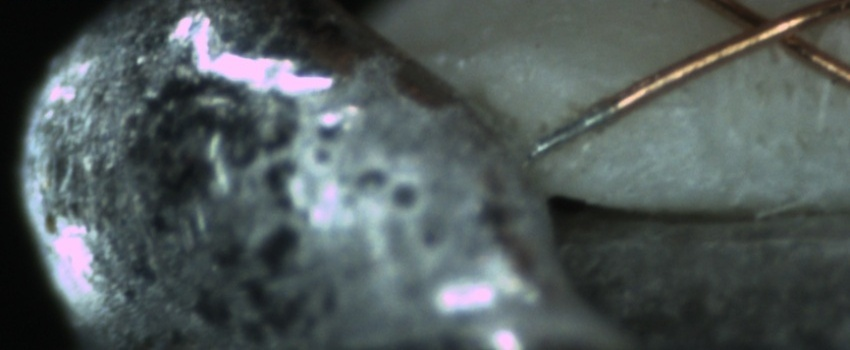CL: (717, 0, 827, 63)
DL: (589, 86, 696, 129)
TS: (528, 102, 618, 159)
